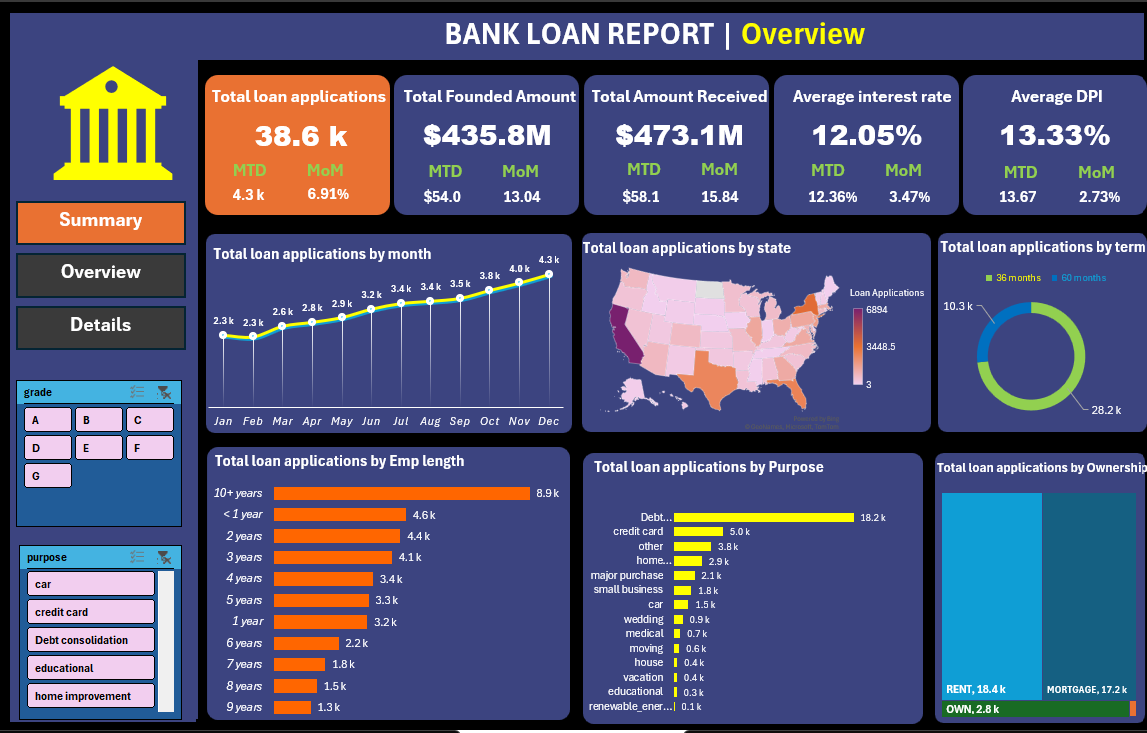

What the dashboard file says about the page in this screenshot:
{"tool":"powerbi","page":{"name":"Overview","canvas":[1280,720],"ordinal":1},"visuals":[{"type":"shape","box":[0,0,1280,70],"z":0},{"type":"shape","box":[194.3,80.5,194.3,117.2],"z":0,"group":"g4"},{"type":"shape","box":[408.3,81.1,194.3,117.2],"z":0,"group":"g1"},{"type":"shape","box":[623.8,81.1,194.3,117.2],"z":0,"group":"g2"},{"type":"shape","box":[837.2,81.1,194.3,117.2],"z":0,"group":"g5"},{"type":"shape","box":[1050.8,82.2,194.3,117.2],"z":0,"group":"g3"},{"type":"shape","box":[0,70,185,650],"z":1000},{"type":"cardVisual","fields":{"Data":["Loan Mesures.Total Loan Amount"]},"box":[397.8,89.1,227,79],"z":1000,"group":"g1"},{"type":"cardVisual","fields":{"Data":["Loan Mesures.Total Amount Received"]},"box":[613.3,89.1,227,79],"z":1000,"group":"g2"},{"type":"cardVisual","fields":{"Data":["Loan Mesures.Avg Interest Rate"]},"box":[826.7,89.1,227,79],"z":1000,"group":"g5"},{"type":"cardVisual","fields":{"Data":["Loan Mesures.Avg DTI"]},"box":[1040.3,90.2,227,79],"z":1000,"group":"g3"},{"type":"cardVisual","title":"MoM","fields":{"Data":["Loan Mesures.MoM Loan Applications"]},"box":[304,151,84,46],"z":1000,"group":"g4"},{"type":"textbox","box":[374,4,598,66],"z":2000},{"type":"textbox","box":[397.8,82.4,205,28.8],"z":2000,"group":"g1"},{"type":"textbox","box":[613.3,82.4,205,28.8],"z":2000,"group":"g2"},{"type":"textbox","box":[826.7,82.4,205,28.8],"z":2000,"group":"g5"},{"type":"textbox","box":[1040.3,83.5,205,28.8],"z":2000,"group":"g3"},{"type":"cardVisual","fields":{"Data":["bank_loan_data.Total Loan Applications"]},"box":[195,86.8,193.5,80],"z":2000,"group":"g4"},{"type":"textbox","box":[183.8,81.8,205,28.8],"z":3000,"group":"g4"},{"type":"cardVisual","title":"MTD","fields":{"Data":["Loan Mesures.MTD Founded Amount"]},"box":[408.6,153.6,83.3,45],"z":3000,"group":"g1"},{"type":"cardVisual","title":"MTD","fields":{"Data":["Loan Mesures.MTD Amount Received"]},"box":[624.1,153.6,83.3,45],"z":3000,"group":"g2"},{"type":"cardVisual","title":"MTD","fields":{"Data":["Loan Mesures.MTD Avg Interest Rate"]},"box":[837.5,153.6,83.3,45],"z":3000,"group":"g5"},{"type":"cardVisual","title":"MTD","fields":{"Data":["Loan Mesures.MTD Avg DTI"]},"box":[1051.1,154.7,83.3,45],"z":3000,"group":"g3"},{"type":"shape","box":[194,216,405,235],"z":3000},{"type":"group","id":"g1","title":"Group 2","box":[397.8,81.1,227,117.5],"z":4000},{"type":"cardVisual","title":"MoM","fields":{"Data":["Loan Mesures.MoM Founded Amount"]},"box":[518.8,152.1,84,46],"z":4000,"group":"g1"},{"type":"cardVisual","title":"MoM","fields":{"Data":["Loan Mesures.MoM Amount Received"]},"box":[734.3,152.1,84,46],"z":4000,"group":"g2"},{"type":"cardVisual","title":"MoM","fields":{"Data":["Loan Mesures.MoM Avg Interest Rate"]},"box":[947.7,152.1,84,46],"z":4000,"group":"g5"},{"type":"cardVisual","title":"MTD","fields":{"Data":["Loan Mesures.MTD Loan Applications"]},"box":[194,152.4,84.2,45.8],"z":4000,"group":"g4"},{"type":"cardVisual","title":"MoM","fields":{"Data":["Loan Mesures.MoM Avg DTI"]},"box":[1161.3,153.2,84,46],"z":4000,"group":"g3"},{"type":"group","id":"g2","title":"Group 2","box":[613.3,81.1,227.8,117.8],"z":5000},{"type":"group","id":"g3","title":"Group 2","box":[1040.3,82.2,227,117.5],"z":6000},{"type":"group","id":"g4","title":"Group 1","box":[183.8,80.5,205,117.7],"z":7000},{"type":"group","id":"g5","title":"Group 2","box":[826.7,81.1,226.7,118.9],"z":8000},{"type":"slicer","fields":{"Values":["bank_loan_data.address_state"]},"box":[8.1,449,167.1,57.1],"z":9000},{"type":"textbox","box":[8.1,413.3,185.7,35.7],"z":10000},{"type":"slicer","fields":{"Values":["bank_loan_data.grade"]},"box":[9.5,549.5,167.1,57.1],"z":11000},{"type":"textbox","box":[9.5,513.8,185.7,35.7],"z":12000},{"type":"slicer","fields":{"Values":["bank_loan_data.good vs bad loan"]},"box":[9.5,645.7,167.1,57.1],"z":13000},{"type":"textbox","box":[9.5,610,185.7,35.7],"z":14000},{"type":"areaChart","fields":{"Y":["Loan Mesures.Total Loan Applications"],"Category":["Date Table.Month"]},"box":[196,226,403,226],"z":15000},{"type":"slicer","fields":{"Values":["Select Measure.Select Measure"]},"box":[5.1,343.8,176,60],"z":16000},{"type":"textbox","box":[5.1,307.8,158,36],"z":17000},{"type":"shape","box":[613,218,377,234],"z":18000},{"type":"shapeMap","fields":{"Value":["Loan Mesures.Total Loan Applications"],"Category":["bank_loan_data.address_state"]},"box":[613,226,418,224],"z":19000},{"type":"shape","box":[1002,216,244,235],"z":20000},{"type":"donutChart","fields":{"Y":["Loan Mesures.Total Loan Applications"],"Category":["bank_loan_data.term"]},"box":[1002,226,254,226],"z":21000},{"type":"shape","box":[192.9,461.4,404.3,247.1],"z":22000},{"type":"barChart","fields":{"Y":["Loan Mesures.Total Loan Applications"],"Category":["bank_loan_data.emp_length"]},"box":[195.7,474.3,404.3,234.3],"z":23000},{"type":"shape","box":[612.9,461.4,377.1,247.1],"z":24000},{"type":"barChart","fields":{"Y":["Loan Mesures.Total Loan Applications"],"Category":["bank_loan_data.purpose"]},"box":[624.3,475.7,365.7,232.9],"z":25000},{"type":"shape","box":[1001.4,467.1,244.3,241.4],"z":26000},{"type":"treemap","fields":{"Values":["Loan Mesures.Total Loan Applications"],"Group":["bank_loan_data.home_ownership"]},"box":[1007.1,477.1,238.6,231.4],"z":27000},{"type":"pageNavigator","box":[7.1,121.4,167.1,175.7],"z":28000}]}

Visuals, with their boxes on the page's 1280x720 design canvas (x1, y1, x2, y2). These are canvas units, not pixel positions in the 1147x733 screenshot, which may show the page scaled, cropped or inside an application window:
shape: (0,0,1280,70)
shape: (194,80,389,198)
shape: (408,81,603,198)
shape: (624,81,818,198)
shape: (837,81,1032,198)
shape: (1051,82,1245,199)
shape: (0,70,185,720)
cardVisual - Loan Mesures.Total Loan Amount: (398,89,625,168)
cardVisual - Loan Mesures.Total Amount Received: (613,89,840,168)
cardVisual - Loan Mesures.Avg Interest Rate: (827,89,1054,168)
cardVisual - Loan Mesures.Avg DTI: (1040,90,1267,169)
"MoM" cardVisual: (304,151,388,197)
textbox: (374,4,972,70)
textbox: (398,82,603,111)
textbox: (613,82,818,111)
textbox: (827,82,1032,111)
textbox: (1040,84,1245,112)
cardVisual - bank_loan_data.Total Loan Applications: (195,87,388,167)
textbox: (184,82,389,111)
"MTD" cardVisual: (409,154,492,199)
"MTD" cardVisual: (624,154,707,199)
"MTD" cardVisual: (838,154,921,199)
"MTD" cardVisual: (1051,155,1134,200)
shape: (194,216,599,451)
"Group 2" group: (398,81,625,199)
"MoM" cardVisual: (519,152,603,198)
"MoM" cardVisual: (734,152,818,198)
"MoM" cardVisual: (948,152,1032,198)
"MTD" cardVisual: (194,152,278,198)
"MoM" cardVisual: (1161,153,1245,199)
"Group 2" group: (613,81,841,199)
"Group 2" group: (1040,82,1267,200)
"Group 1" group: (184,80,389,198)
"Group 2" group: (827,81,1053,200)
slicer - bank_loan_data.address_state: (8,449,175,506)
textbox: (8,413,194,449)
slicer - bank_loan_data.grade: (10,550,177,607)
textbox: (10,514,195,550)
slicer - bank_loan_data.good vs bad loan: (10,646,177,703)
textbox: (10,610,195,646)
areaChart - Loan Mesures.Total Loan Applications x Date Table.Month: (196,226,599,452)
slicer - Select Measure.Select Measure: (5,344,181,404)
textbox: (5,308,163,344)
shape: (613,218,990,452)
shapeMap - Loan Mesures.Total Loan Applications x bank_loan_data.address_state: (613,226,1031,450)
shape: (1002,216,1246,451)
donutChart - Loan Mesures.Total Loan Applications x bank_loan_data.term: (1002,226,1256,452)
shape: (193,461,597,708)
barChart - Loan Mesures.Total Loan Applications x bank_loan_data.emp_length: (196,474,600,709)
shape: (613,461,990,708)
barChart - Loan Mesures.Total Loan Applications x bank_loan_data.purpose: (624,476,990,709)
shape: (1001,467,1246,708)
treemap - Loan Mesures.Total Loan Applications x bank_loan_data.home_ownership: (1007,477,1246,708)
pageNavigator: (7,121,174,297)
